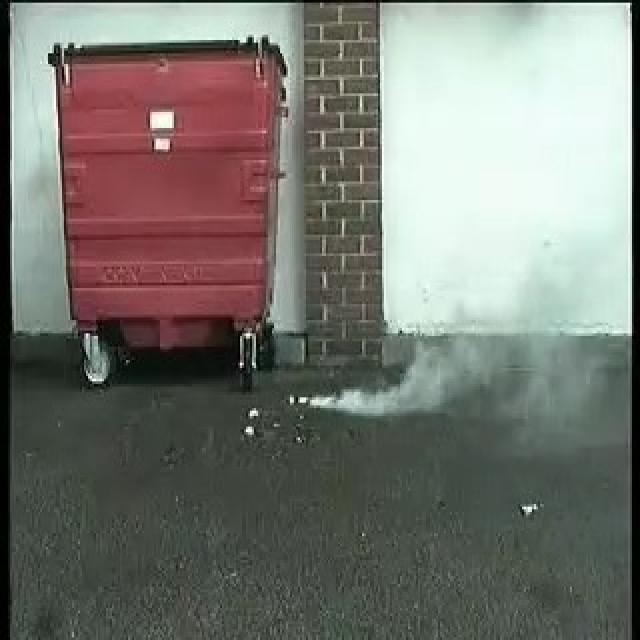smoke: (312, 358, 448, 414)
